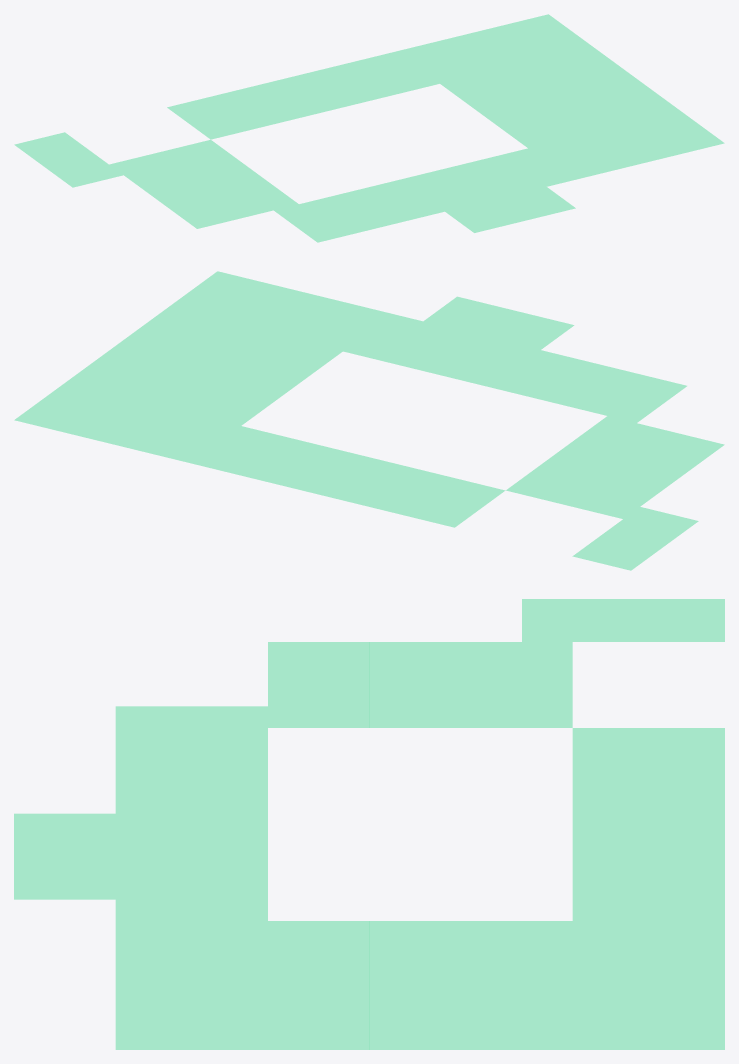
The model's file is navmesh.glb.
3 views of the same model, one above another, from view 1: azimuth 30°, elevation 25°; view 2: azimuth 150°, elevation 25°; view 3: azimuth 270°, elevation 25° (orthographic). The views are drawn at different scales.
Visible parts, largest first — view 1: NAVMESH; view 2: NAVMESH; view 3: NAVMESH.
Part boxes in pixels (left/top/right/bottom): NAVMESH: left=14, top=14, right=724, bottom=242; NAVMESH: left=14, top=271, right=724, bottom=570; NAVMESH: left=14, top=599, right=724, bottom=1049.
Size of the model in its own units: 5.25 by 0 by 3.5.
